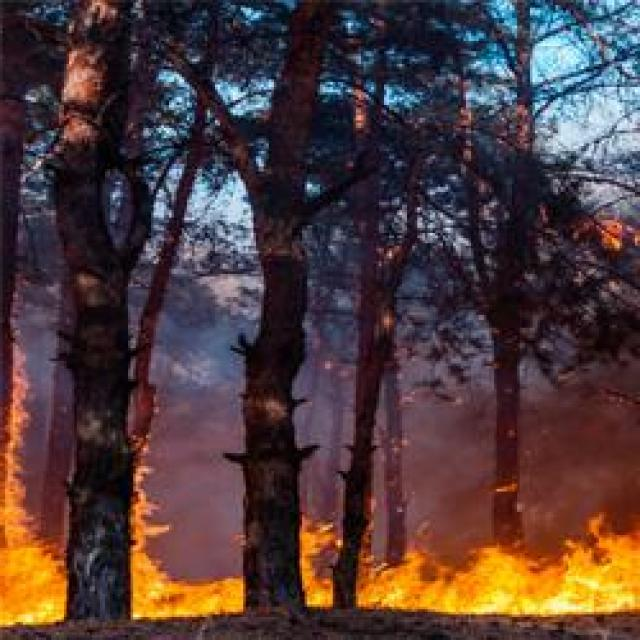fire: (458, 560, 566, 618), (555, 544, 640, 609), (0, 548, 63, 622), (134, 575, 244, 615), (359, 577, 464, 608)
smoke: (535, 389, 640, 527)
